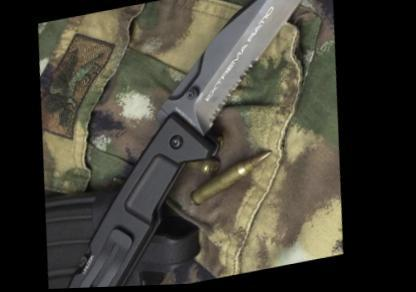knife: (137, 0, 351, 148)
